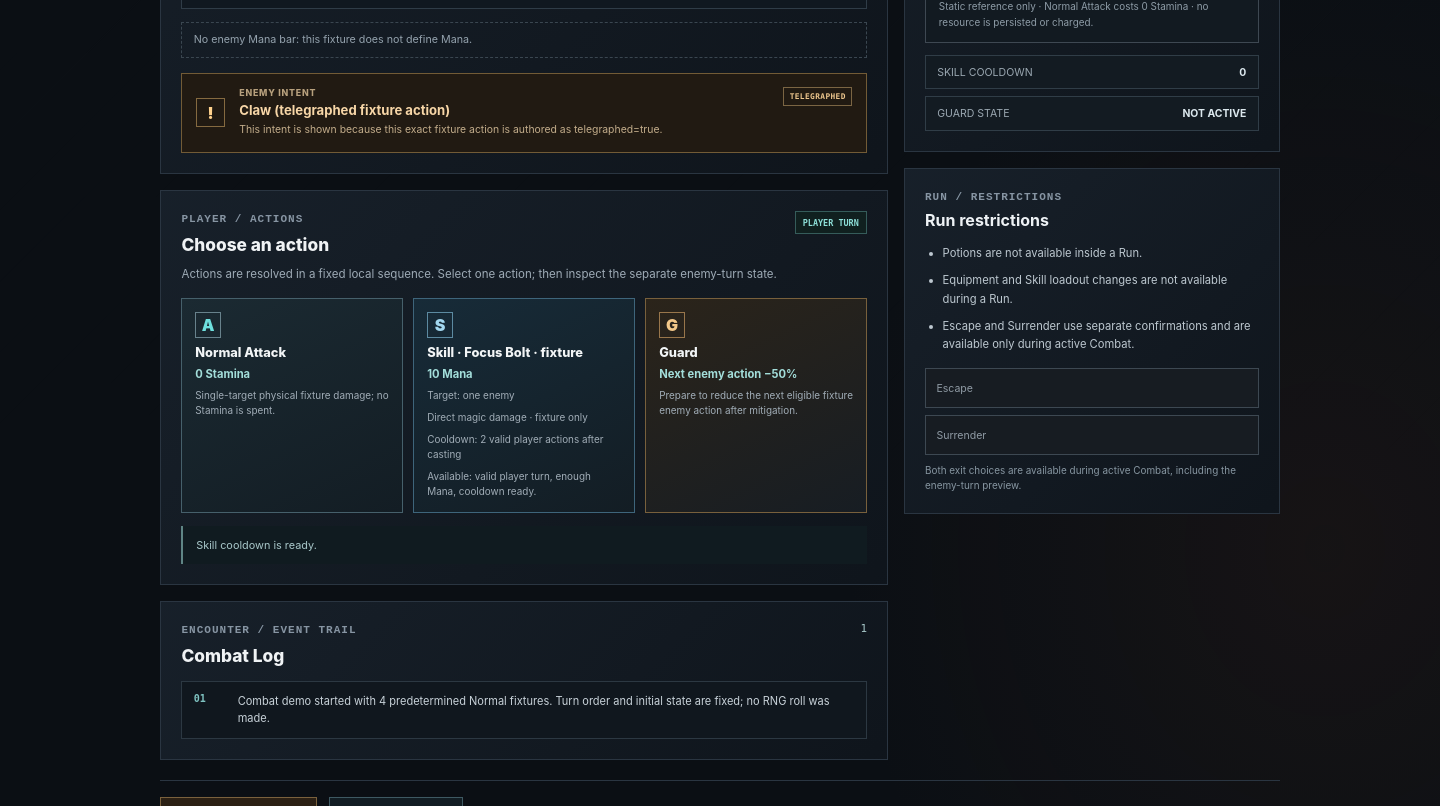
Scenario: P1-UI-005 Combat interaction demo › Skill spends only local Mana, applies cooldown, and advances to the next enemy without leaking untelegraphed intent
(page scrolled)
Click the button with test id "combat-action-skill".
click(524, 406)  # box [413,298,635,513]
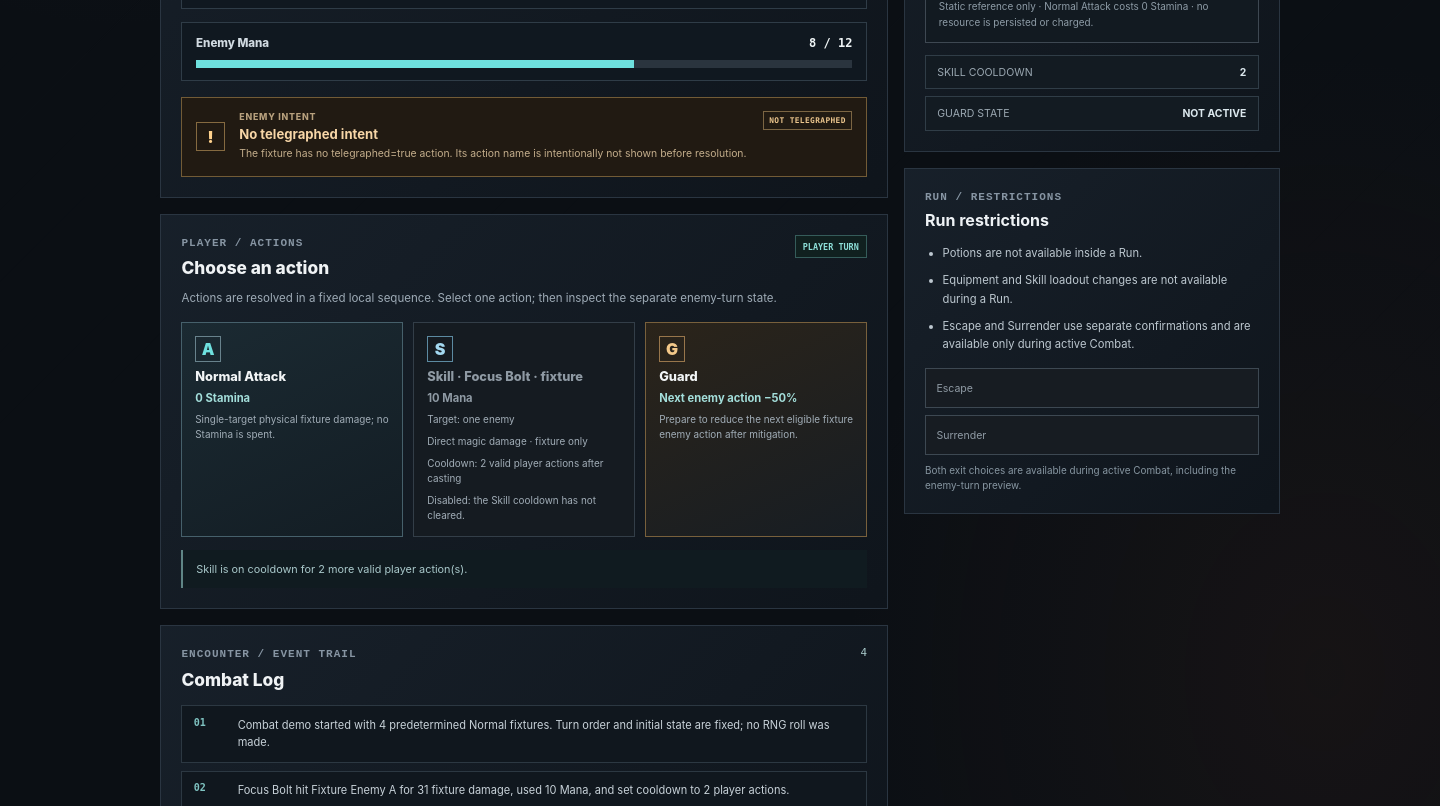
Check: the message with test id "combat-skill-cooldown" shows "2", box [196,562,467,576]
Check: the element with test id "combat-intent" shows "No telegraphed intent", box [239,126,378,142]
Check: the progress indicator named "Enemy Mana" holds "8", box [196,60,852,68]
Click the button with test id "combat-action-attack".
click(292, 430)  # box [182,322,403,537]
(page scrolled)
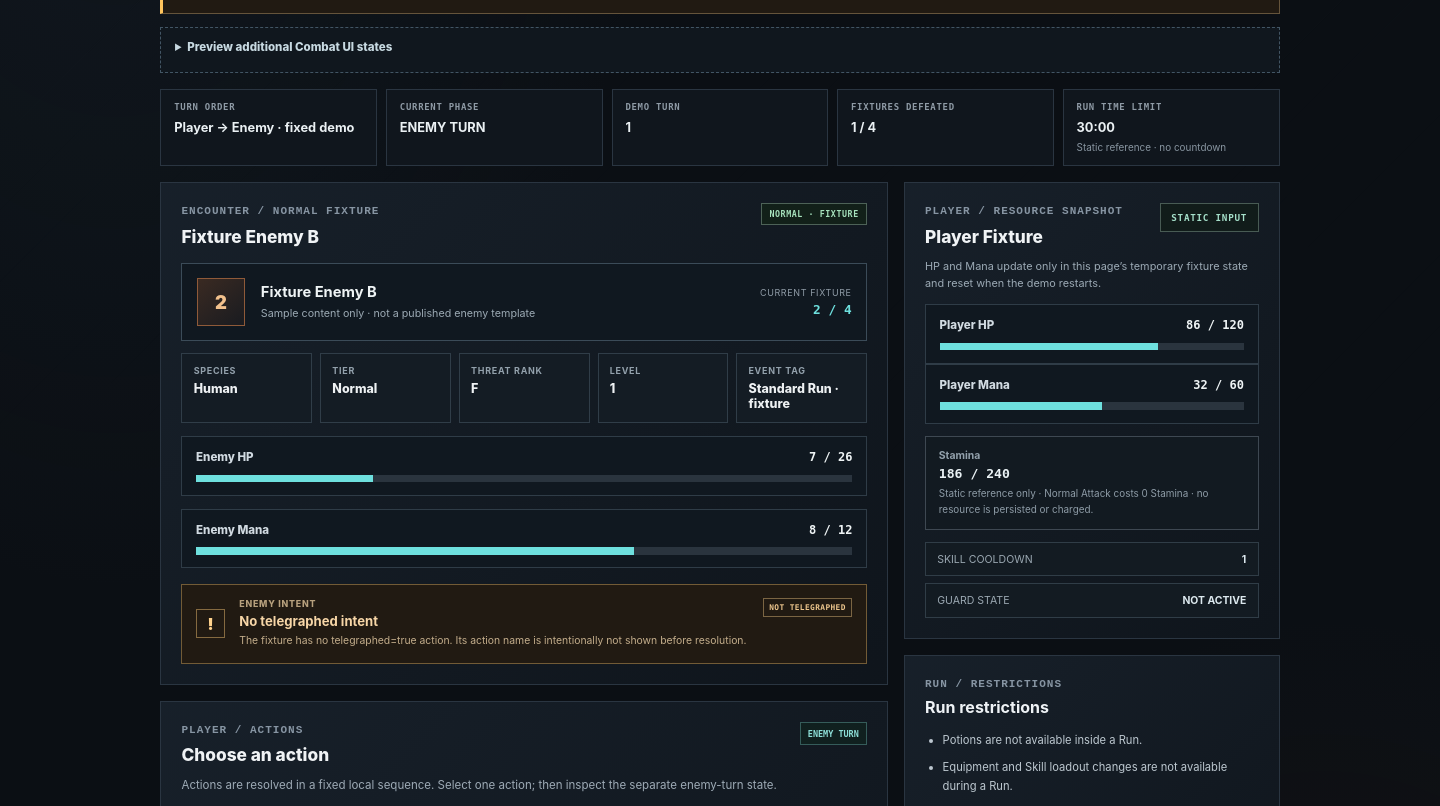
Check: the progress indicator named "Player Mana" holds "32", box [940,402,1244,410]
Check: the text with test id "combat-phase" reads "ENEMY TURN", box [400,120,486,135]
